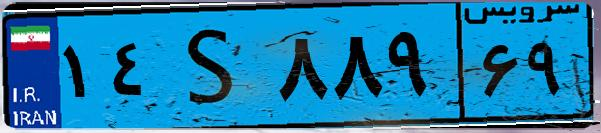1: (57, 26, 110, 100)
4: (110, 28, 158, 98)
6: (475, 38, 525, 113)
8: (270, 28, 330, 110), (330, 28, 385, 110)
9: (385, 28, 445, 110), (525, 38, 570, 115)
S: (158, 12, 270, 120)
